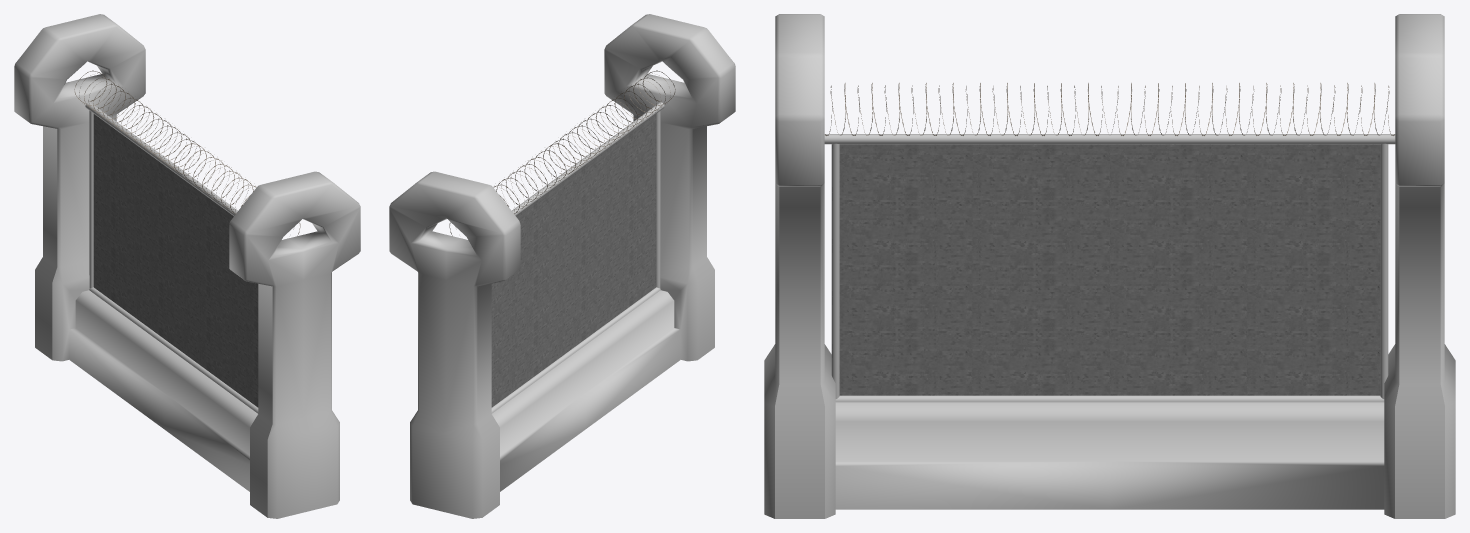
Rendered from fencewall.fbx.
The picture shows the model from 3 angles, left to right: view 1: azimuth 30°, elevation 25°; view 2: azimuth 150°, elevation 25°; view 3: azimuth 270°, elevation 25°; orthographic projection. The views are drawn at different scales.
Visible parts, largest first — view 1: base; view 2: base; view 3: base.
Part boxes in pixels (x1,y1,x2,y2): base: (14,14,360,518); base: (389,14,735,518); base: (764,14,1455,518).
Size of the model in its own units: 142 by 370 by 504.
